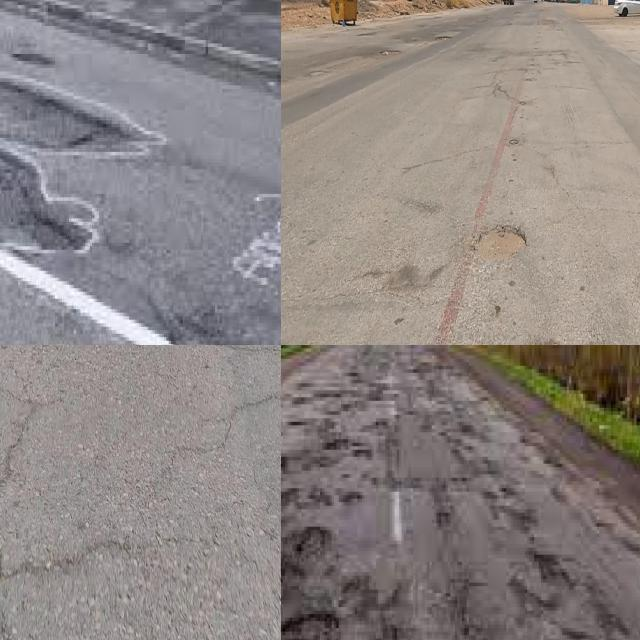Pothole: (0, 159, 92, 250), (0, 85, 122, 148), (281, 527, 336, 640), (475, 226, 526, 262), (310, 68, 325, 77), (380, 51, 399, 54)
